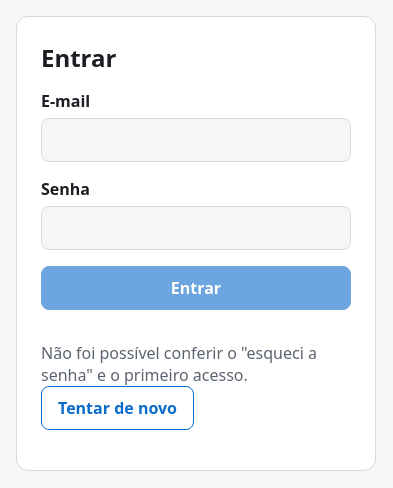
esqueci a senha (ADR 0038) › as opções falharam › sem conexão até o fim das tentativas: avisa, não oferece, e tenta de novo quando pedem
The width and height of the screenshot is (393, 488).
Expected: the text "Não foi possível conferir" is shown, [41, 342, 317, 386]
Click the button "Tentar de novo" at (118, 408), box [41, 386, 194, 430]
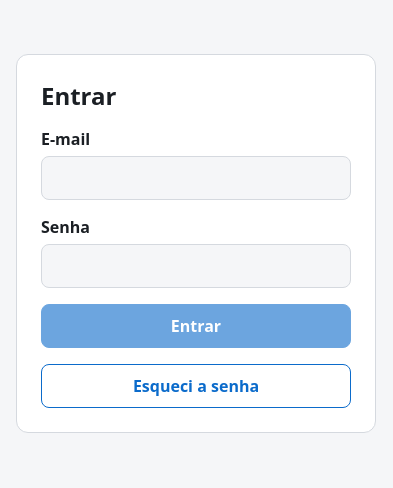
Now the button "Esqueci a senha" is shown, box [41, 364, 351, 408]
Now the text "Não foi possível conferir" is gone
